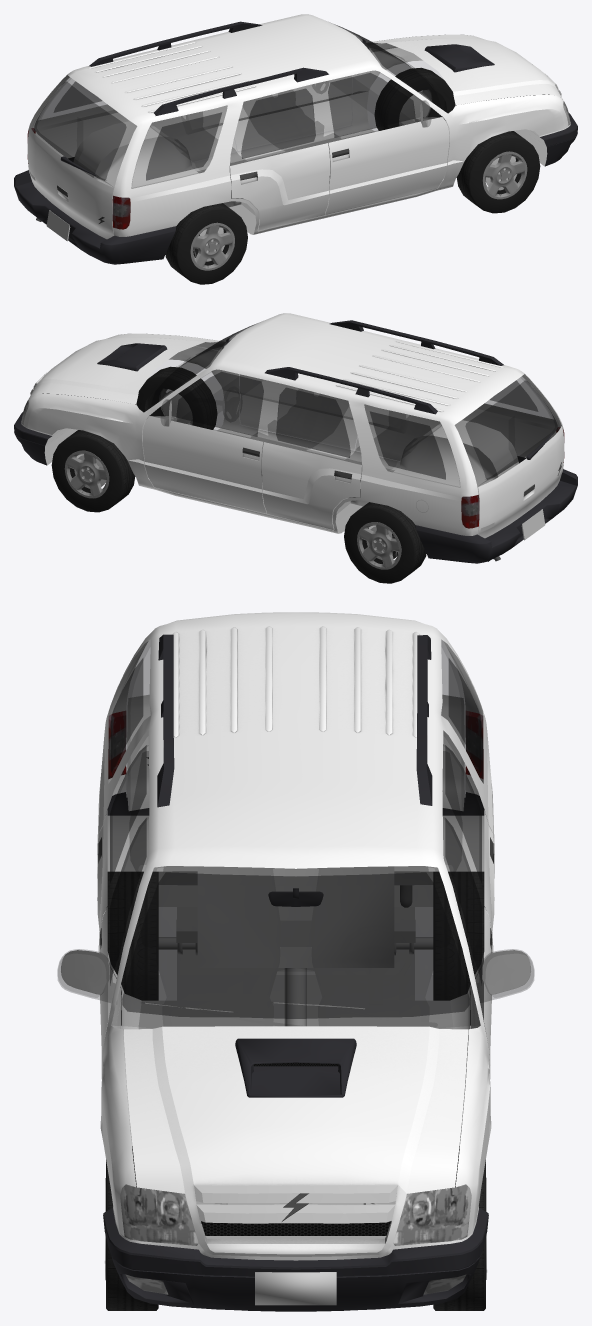
Rendered from Blaster.dae.
The picture shows the model from 3 angles, top to bottom: view 1: azimuth 30°, elevation 25°; view 2: azimuth 150°, elevation 25°; view 3: azimuth 270°, elevation 25°; orthographic projection. The views are drawn at different scales.
Visible parts, largest first — view 1: Body_Blaster, Windows_Blaster, hood_Blaster, Body_Blaster_INT, P_Windows_Blaster, P_Body_Blaster, bumper_rear_Blaster, TIREFR_BLAZER, TIRERR_BLAZER, TIREFL_BLAZER, HackTrailBlazer_Extra, Seat_Front_Blazer (+10 smaller); view 2: Body_Blaster, Windows_Blaster, Body_Blaster_INT, hood_Blaster, P_Windows_Blaster, P_Body_Blaster, bumper_rear_Blaster, TIREFL_BLAZER, TIRERL_BLAZER, TIREFR_BLAZER, HackTrailBlazer_Extra, Seat_Front_Blazer (+10 smaller); view 3: Body_Blaster, Windows_Blaster, hood_Blaster, Body_Blaster_INT, Parts_Blaster, bumper_front_Blaster, grille_Blaster, EntradaArBlazer, TIRERL_BLAZER, TIRERR_BLAZER, BodyRelevoteto, P_Body_Blaster (+12 smaller).
Boxes of the visible parts, <box> form: Body_Blaster: <box>28,14,570,236</box>; Windows_Blaster: <box>54,24,440,180</box>; hood_Blaster: <box>372,34,562,104</box>; Body_Blaster_INT: <box>32,71,441,235</box>; P_Windows_Blaster: <box>34,81,126,180</box>; P_Body_Blaster: <box>27,126,113,239</box>; bumper_rear_Blaster: <box>14,157,176,264</box>; TIREFR_BLAZER: <box>456,131,540,213</box>; TIRERR_BLAZER: <box>165,203,247,284</box>; TIREFL_BLAZER: <box>374,67,456,130</box>; HackTrailBlazer_Extra: <box>89,21,328,115</box>; Seat_Front_Blazer: <box>243,90,341,172</box>; Body_Blaster: <box>21,313,563,535</box>; Windows_Blaster: <box>151,323,537,479</box>; Body_Blaster_INT: <box>150,370,559,533</box>; hood_Blaster: <box>29,333,219,403</box>; P_Windows_Blaster: <box>465,380,557,479</box>; P_Body_Blaster: <box>477,425,564,538</box>; bumper_rear_Blaster: <box>415,456,577,563</box>; TIREFL_BLAZER: <box>51,430,135,512</box>; TIRERL_BLAZER: <box>344,502,426,583</box>; TIREFR_BLAZER: <box>135,366,217,429</box>; HackTrailBlazer_Extra: <box>265,320,503,414</box>; Seat_Front_Blazer: <box>250,389,348,471</box>; Body_Blaster: <box>97,612,494,1260</box>; Windows_Blaster: <box>110,658,481,1018</box>; hood_Blaster: <box>124,1026,467,1193</box>; Body_Blaster_INT: <box>107,640,484,1028</box>; Parts_Blaster: <box>108,711,483,1238</box>; bumper_front_Blaster: <box>103,1208,488,1311</box>; grille_Blaster: <box>194,1185,397,1223</box>; EntradaArBlazer: <box>235,1038,356,1097</box>; TIRERL_BLAZER: <box>433,871,485,1025</box>; TIRERR_BLAZER: <box>106,871,158,1025</box>; BodyRelevoteto: <box>173,626,418,737</box>; P_Body_Blaster: <box>127,694,464,811</box>.
Size of what is drawn, in the model's own units: 5.73 by 2.39 by 1.96.
